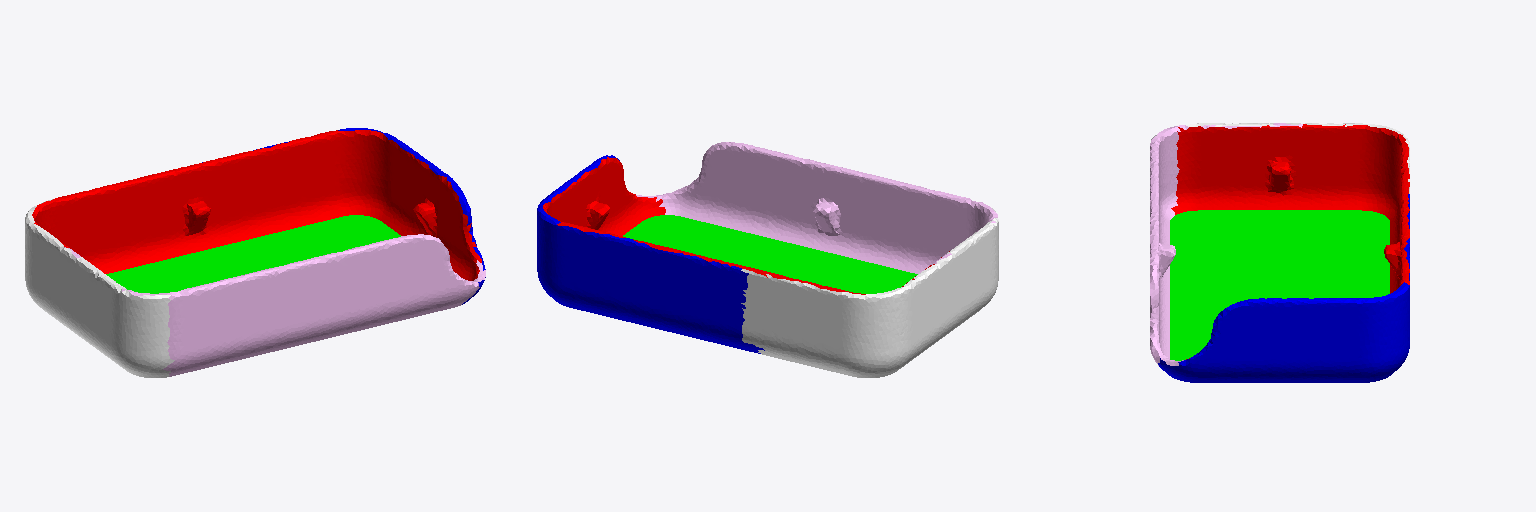
File: model_38217_segmented.obj
3 views of the same model, side by side, from view 1: azimuth 30°, elevation 25°; view 2: azimuth 150°, elevation 25°; view 3: azimuth 270°, elevation 25° (orthographic).
Size of the model in its own units: 130 by 30 by 80.